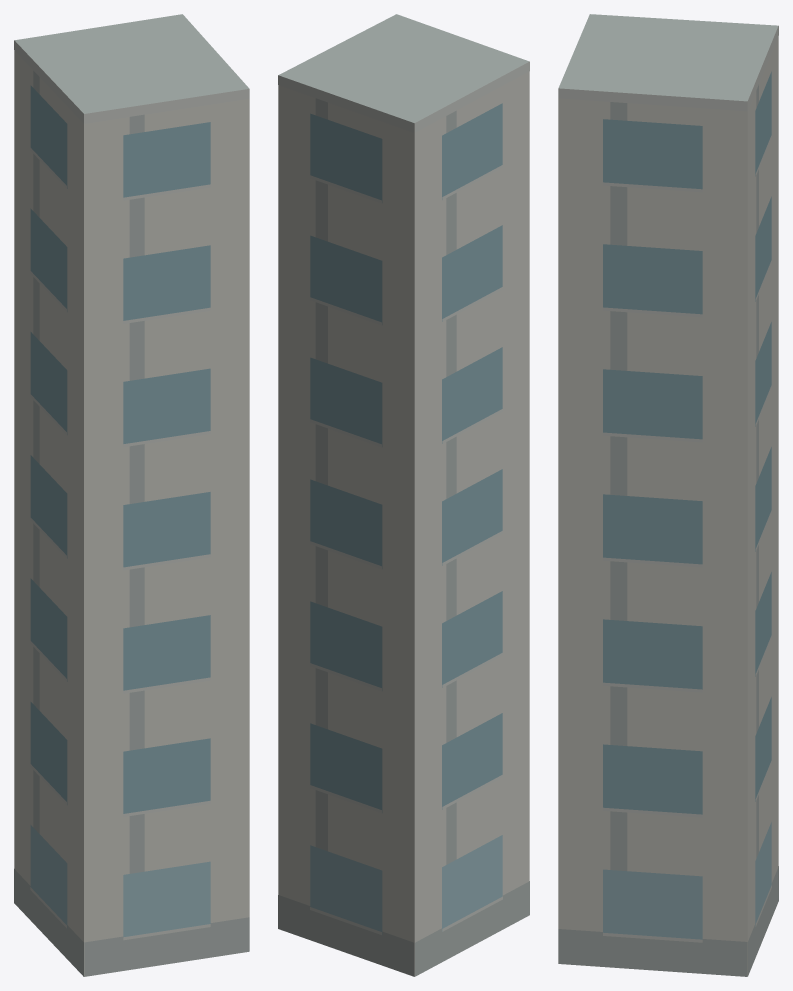
The model's file is survey-upis-32646580.glb.
3 renders of one model, left to right at view 1: azimuth 30°, elevation 25°; view 2: azimuth 150°, elevation 25°; view 3: azimuth 270°, elevation 25°, orthographic. The views are drawn at different scales.
Visible parts, largest first — view 1: survey-upis-32646580.tmp; view 2: survey-upis-32646580.tmp; view 3: survey-upis-32646580.tmp.
Boxes of the visible parts, x1=… form: survey-upis-32646580.tmp: x1=14, y1=14, x2=249, y2=976; survey-upis-32646580.tmp: x1=278, y1=14, x2=529, y2=976; survey-upis-32646580.tmp: x1=558, y1=14, x2=778, y2=976.
Bounding box in the file's own units: 4.58 × 21.35 × 4.88.
